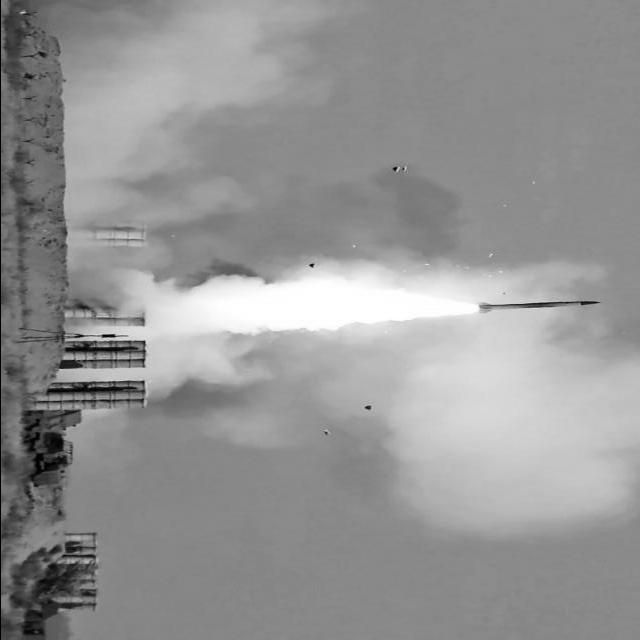missile: (470, 298, 605, 314)
